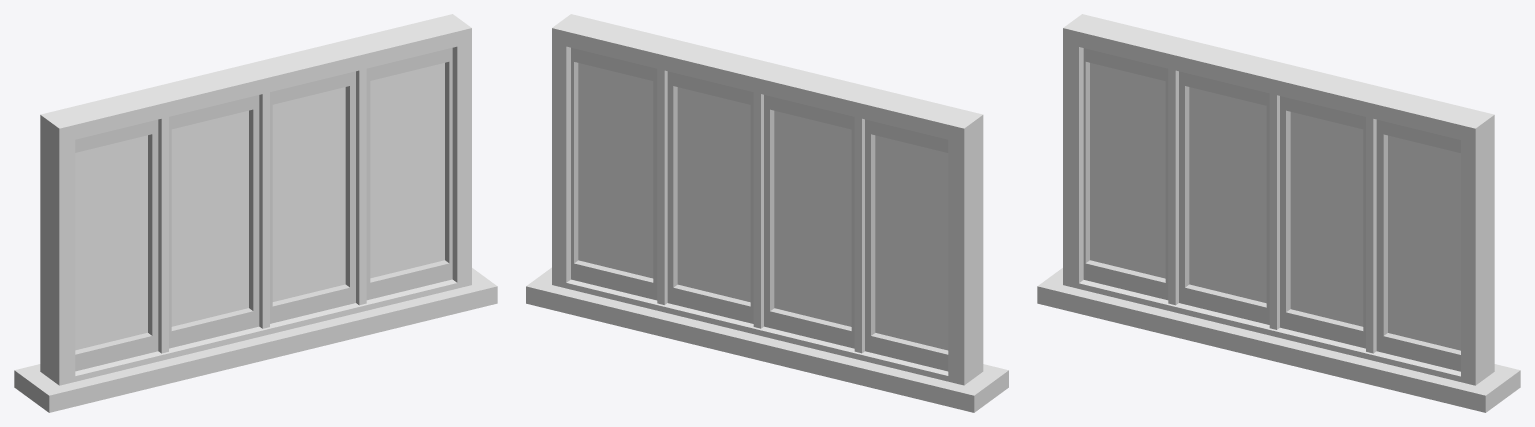
Rendered from window_010.fbx.
3 renders of one model, left to right at view 1: azimuth 30°, elevation 25°; view 2: azimuth 150°, elevation 25°; view 3: azimuth 330°, elevation 25°, orthographic.
Visible parts, largest first — view 1: window_010; view 2: window_010; view 3: window_010.
Boxes of the visible parts, bbox=[...] form: window_010: bbox=[14, 14, 497, 412]; window_010: bbox=[526, 14, 1008, 412]; window_010: bbox=[1037, 14, 1520, 412].
Bounding box in the file's own units: 318 × 42.75 × 186.
